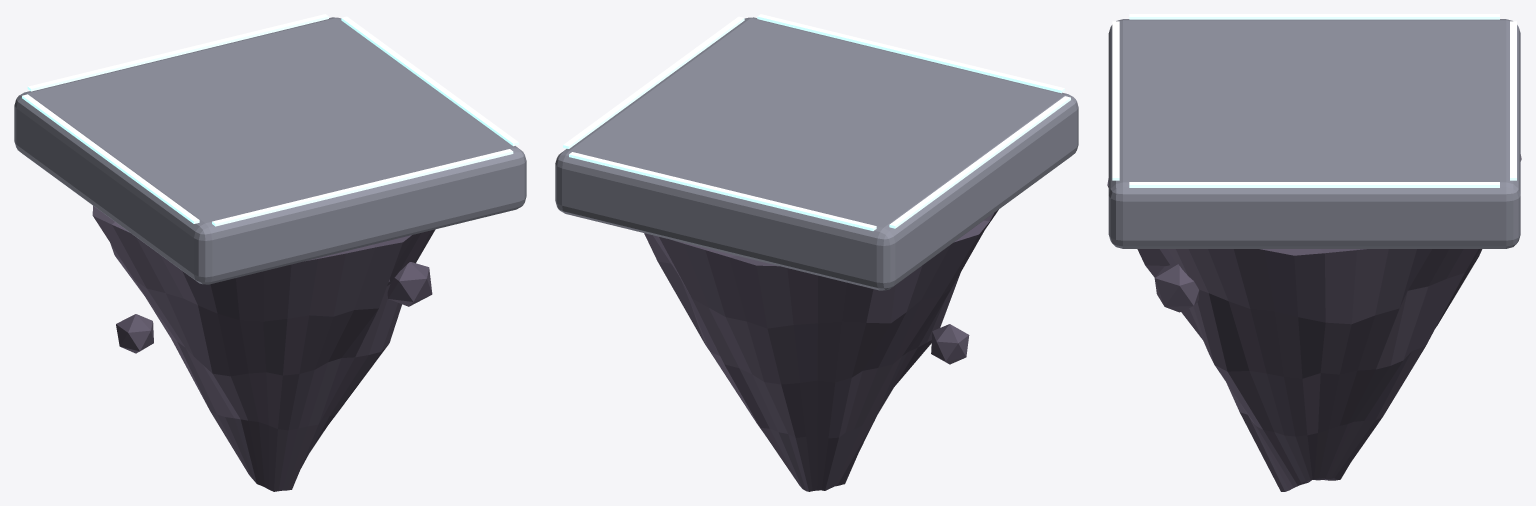
Rendered from tile_1.glb.
The picture shows the model from 3 angles, left to right: view 1: azimuth 30°, elevation 25°; view 2: azimuth 150°, elevation 25°; view 3: azimuth 270°, elevation 25°; orthographic projection. The views are drawn at different scales.
Parts seen in each view (by area): view 1: Cube; view 2: Cube; view 3: Cube.
Boxes of the visible parts, bbox=[...] form: Cube: bbox=[14, 14, 526, 491]; Cube: bbox=[555, 14, 1078, 491]; Cube: bbox=[1107, 14, 1521, 491].
Size of the model in its own units: 4.03 by 4.17 by 4.02.
